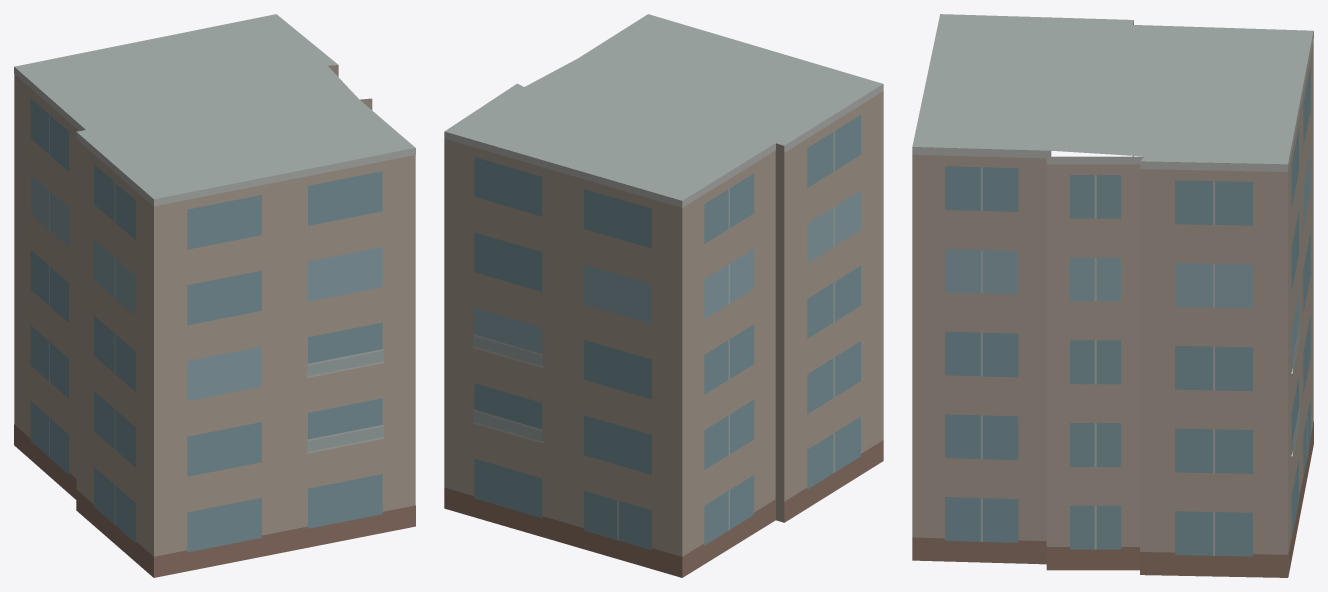
Rendered from survey-upis-33037641.glb.
3 views of the same model, side by side, from view 1: azimuth 30°, elevation 25°; view 2: azimuth 150°, elevation 25°; view 3: azimuth 270°, elevation 25° (orthographic). The views are drawn at different scales.
Visible parts, largest first — view 1: survey-upis-33037641.tmp; view 2: survey-upis-33037641.tmp; view 3: survey-upis-33037641.tmp.
Part boxes in pixels (box(x1,y1,x2,y2)): survey-upis-33037641.tmp: box(14, 14, 415, 577); survey-upis-33037641.tmp: box(444, 14, 883, 577); survey-upis-33037641.tmp: box(912, 14, 1313, 577).
Size of the model in its own units: 10.14 by 13 by 11.45.
